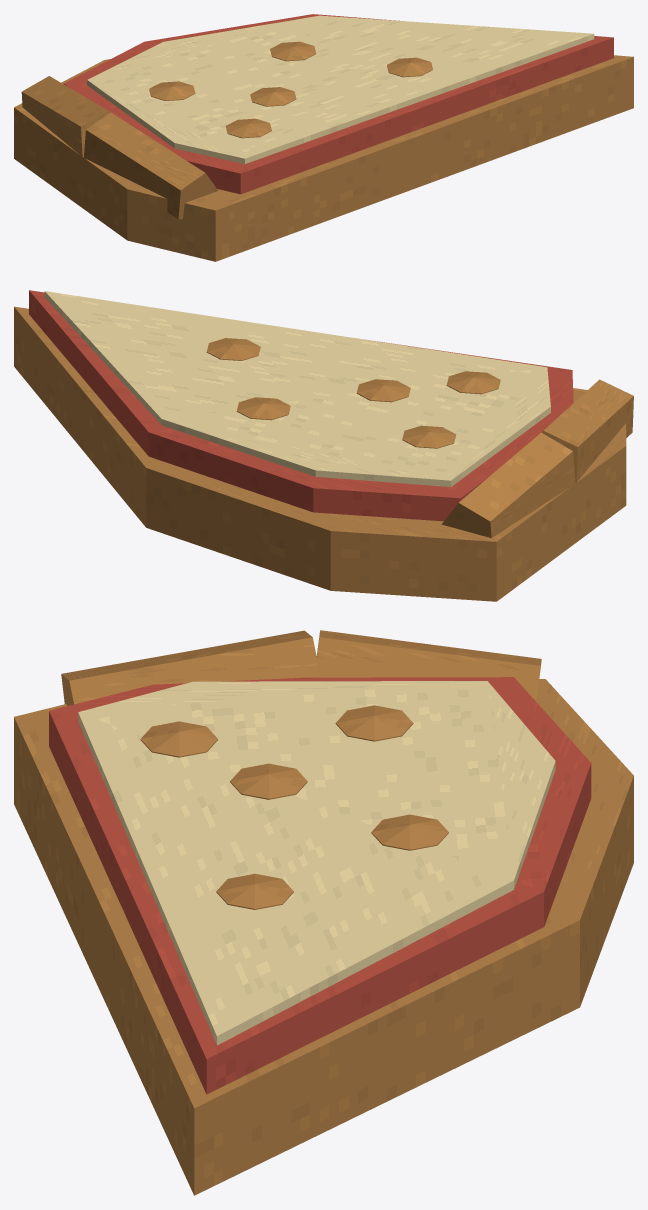
Rendered from pizza_cheese.glb.
3 renders of one model, top to bottom at view 1: azimuth 30°, elevation 25°; view 2: azimuth 150°, elevation 25°; view 3: azimuth 270°, elevation 25°, orthographic. The views are drawn at different scales.
Visible parts, largest first — view 1: block_melted cheese, block_baked crust, block_exposed filling, block_raised crust edge 1, block_brown cheese blister (×5), block_raised crust edge 0; view 2: block_melted cheese, block_baked crust, block_exposed filling, block_raised crust edge 0, block_brown cheese blister (×5), block_raised crust edge 1; view 3: block_melted cheese, block_baked crust, block_exposed filling, block_brown cheese blister (×5), block_raised crust edge 1, block_raised crust edge 0.
Boxes of the visible parts, x1,y1,x2,y2 form: block_melted cheese: [87, 15, 594, 163]; block_baked crust: [14, 55, 633, 261]; block_exposed filling: [63, 14, 613, 194]; block_raised crust edge 1: [83, 112, 218, 219]; block_brown cheese blister (×5): [149, 41, 432, 138]; block_raised crust edge 0: [21, 76, 109, 157]; block_melted cheese: [44, 291, 550, 486]; block_baked crust: [14, 306, 626, 601]; block_exposed filling: [29, 290, 573, 521]; block_raised crust edge 0: [441, 432, 575, 537]; block_brown cheese blister (×5): [206, 338, 500, 448]; block_raised crust edge 1: [542, 379, 633, 483]; block_melted cheese: [78, 681, 555, 1045]; block_baked crust: [14, 679, 633, 1195]; block_exposed filling: [49, 677, 591, 1094]; block_brown cheese blister (×5): [140, 705, 448, 909]; block_raised crust edge 1: [61, 630, 317, 705]; block_raised crust edge 0: [316, 630, 541, 701].
Bounding box in the file's own units: 0.1203 × 0.0199 × 0.0734.
Materials: 1 (1 with a texture image).
